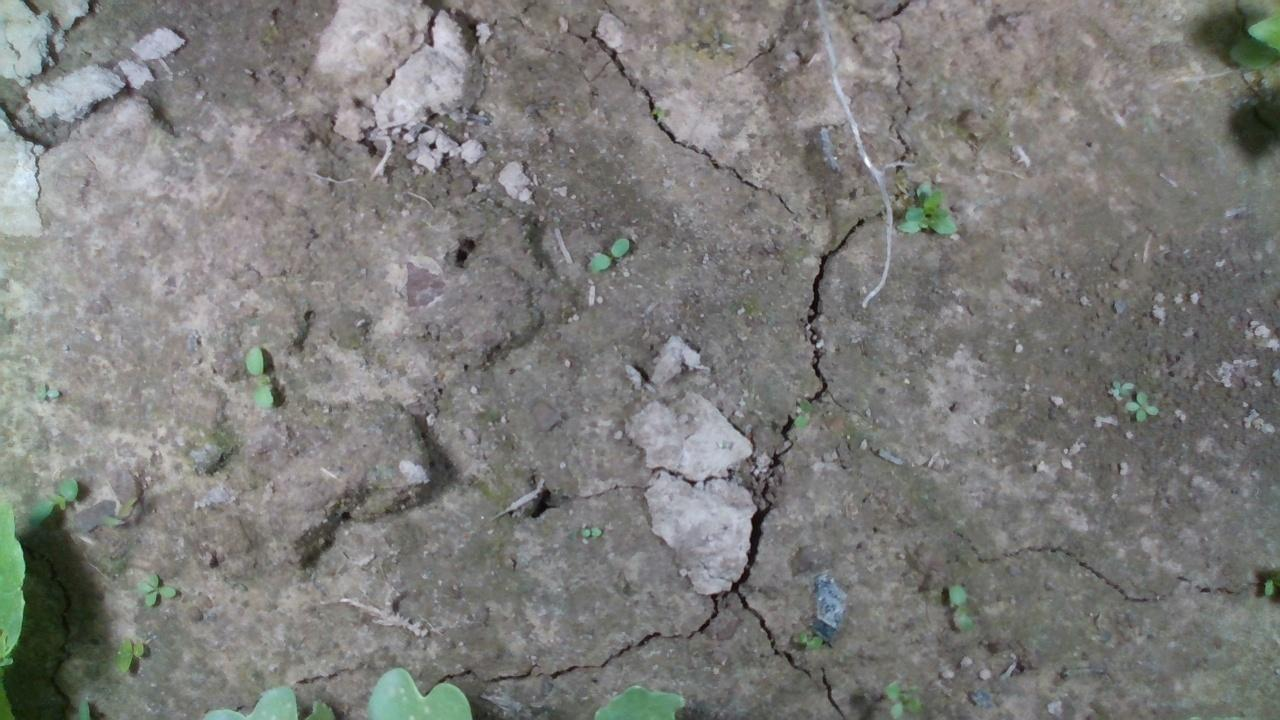weed: (27, 475, 79, 524), (243, 345, 274, 408), (585, 235, 629, 271), (136, 571, 177, 607), (946, 583, 971, 631), (116, 636, 143, 673), (29, 380, 60, 403), (791, 629, 823, 649), (575, 524, 601, 538)
